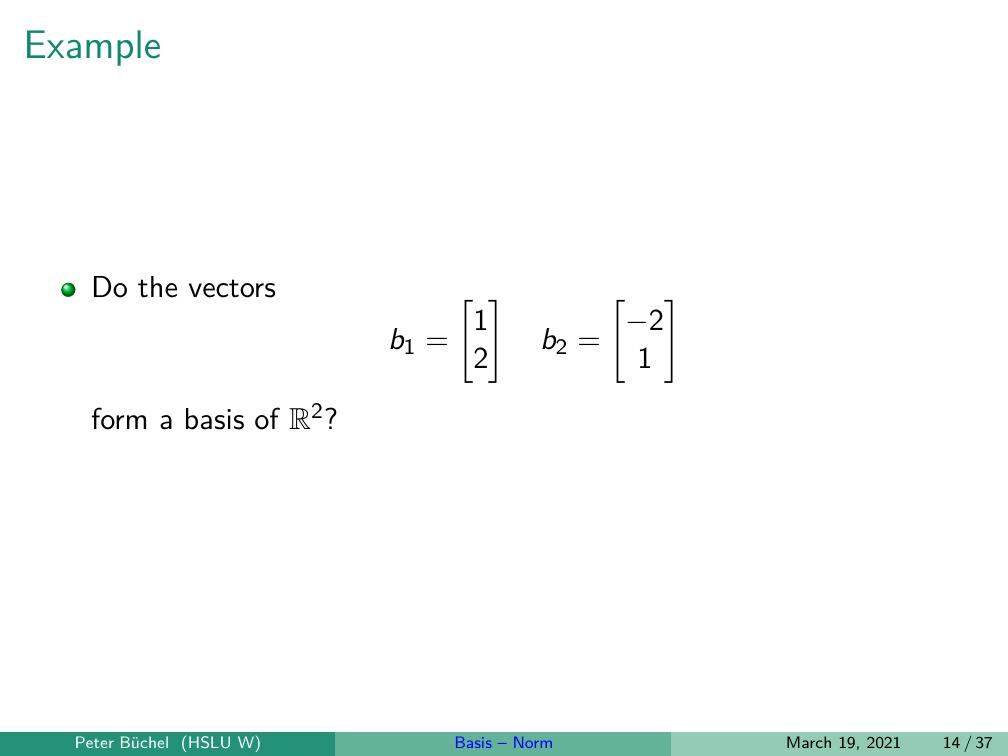Title: (20, 23, 172, 70)
